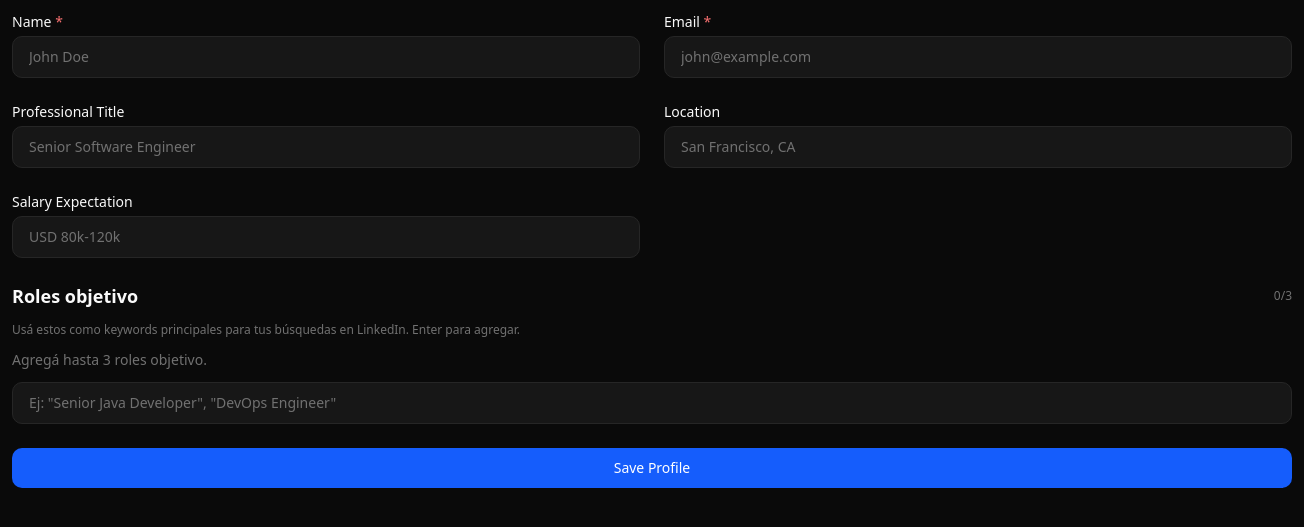
Test: ProfileForm › validates required name field
Click the button "Save Profile" at (652, 468), box 12,448 -> 1292,488
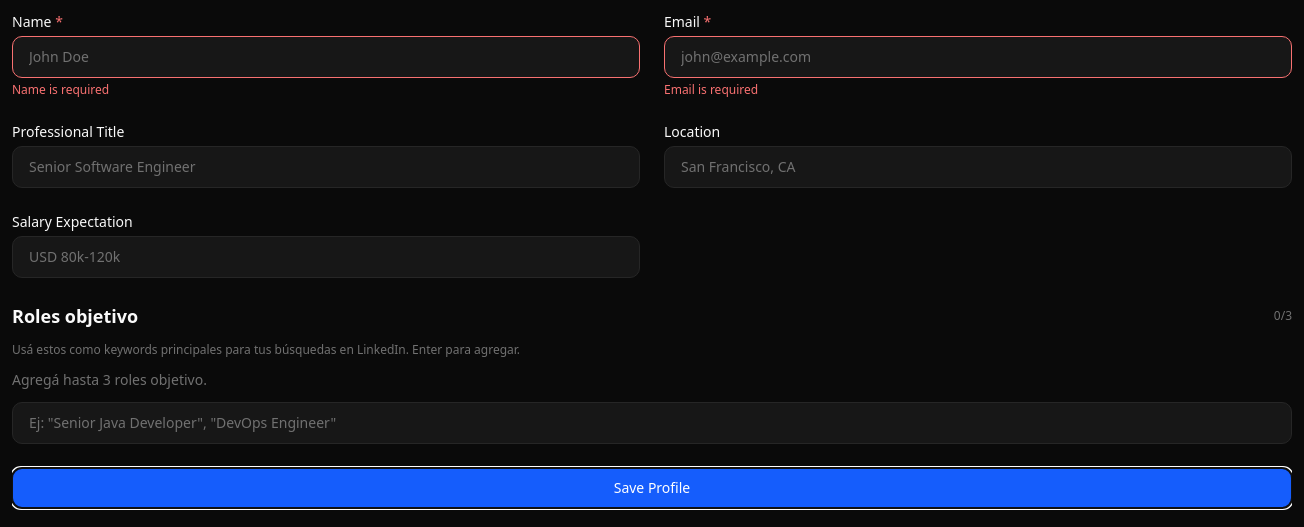
Check: the text "Name is required" is shown, box 12,81 -> 109,98
